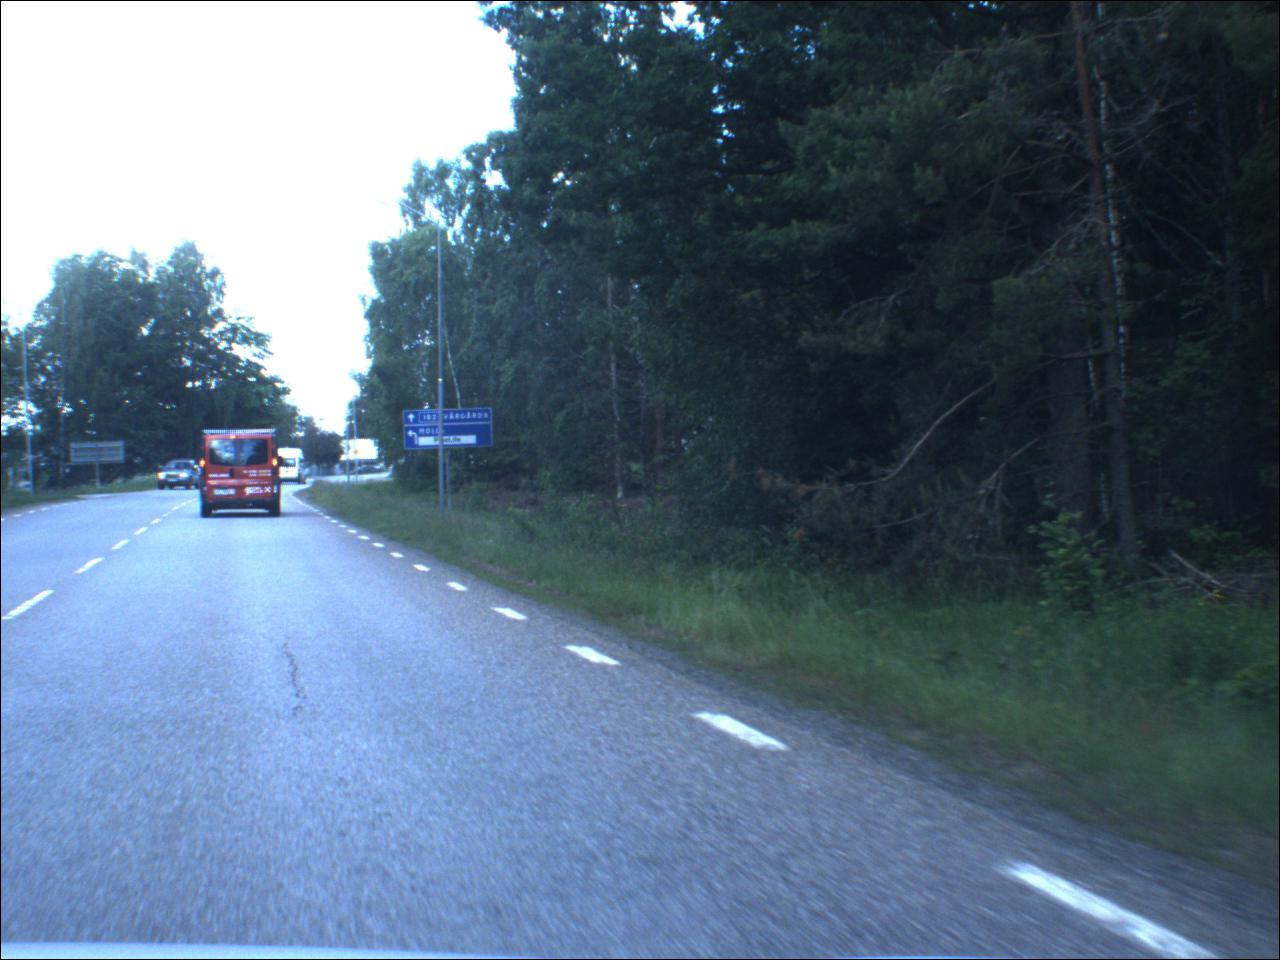PRIORITY_ROAD: (355, 450, 362, 458)
